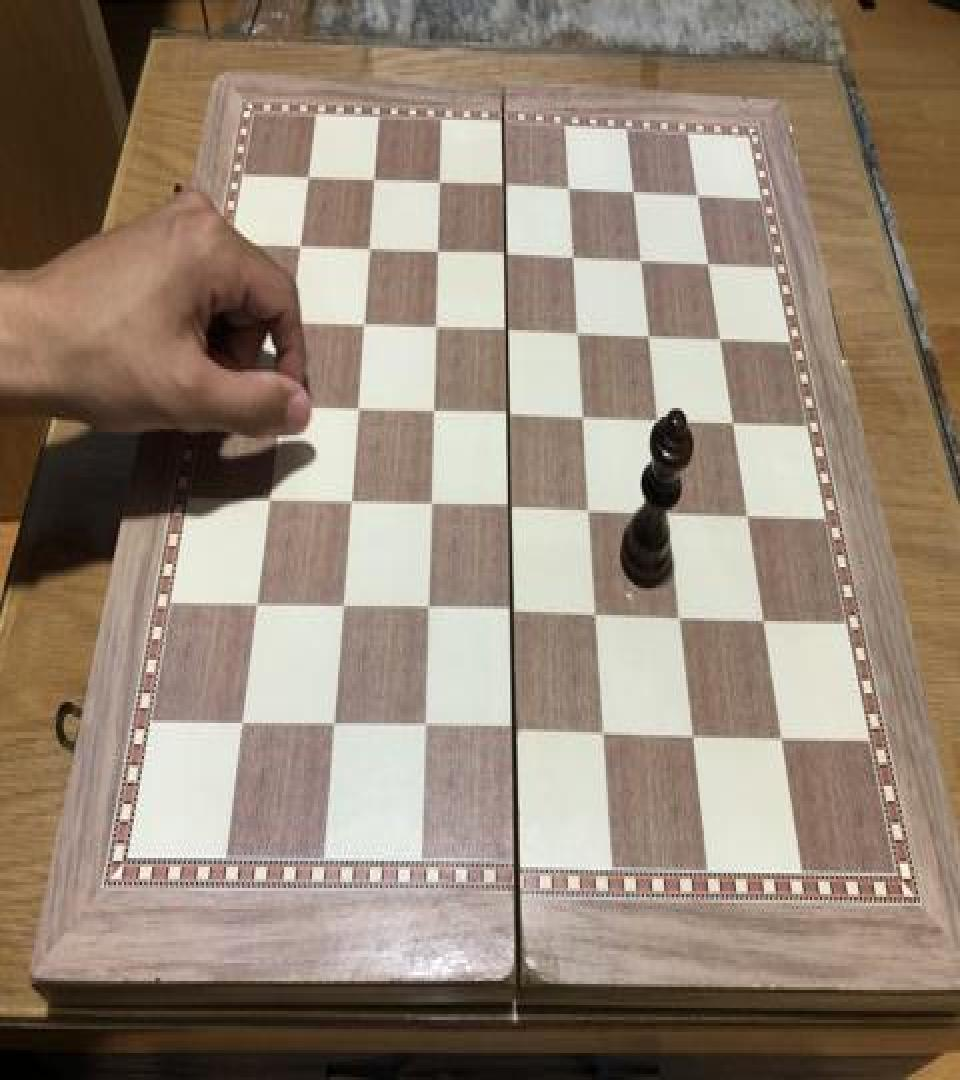xcorner: (665, 601, 689, 638), (496, 595, 520, 632), (686, 176, 710, 212), (621, 174, 645, 210), (556, 171, 580, 207), (491, 168, 515, 204), (426, 165, 450, 201), (360, 162, 384, 198), (295, 159, 319, 195), (696, 244, 720, 280), (628, 243, 652, 279), (560, 240, 584, 276), (492, 237, 516, 273), (423, 234, 447, 270), (355, 231, 379, 267), (286, 228, 310, 264), (707, 321, 731, 357), (636, 318, 660, 354), (565, 316, 589, 352), (493, 314, 517, 350), (421, 310, 445, 346), (349, 308, 373, 344), (276, 304, 300, 340), (720, 405, 744, 441), (645, 404, 669, 440), (569, 400, 593, 436), (494, 398, 518, 434), (418, 394, 442, 430), (342, 392, 366, 428), (266, 388, 290, 424), (734, 500, 758, 536), (655, 496, 679, 532), (575, 494, 599, 530), (495, 490, 519, 526), (415, 488, 439, 524), (335, 484, 359, 520), (254, 483, 278, 519), (749, 604, 773, 640), (581, 598, 605, 634), (412, 592, 436, 628), (326, 590, 350, 626), (241, 588, 265, 624), (767, 723, 791, 759), (678, 720, 702, 756), (588, 717, 612, 753), (498, 714, 522, 750), (408, 711, 432, 747), (317, 708, 341, 744), (226, 706, 250, 742)
